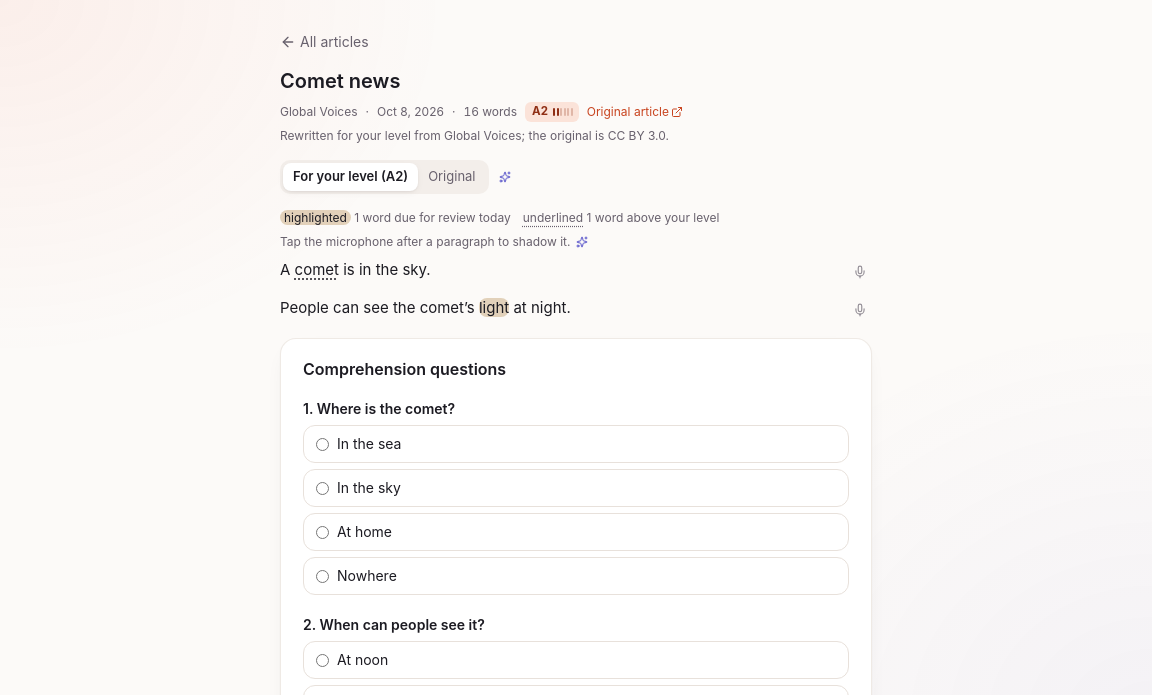
Test: shadowing a paragraph › opens a panel under the paragraph, one at a time (Q57b)
Expected: the element with test id "reading-text" is shown, [280,258,872,322]
Expected: the element with test id "reading-shadowing-hint" is shown, [280,234,590,250]
Click the button named "Shadow this paragraph" in the row of "comet’s".
click(860, 310)  # box [848,298,872,322]
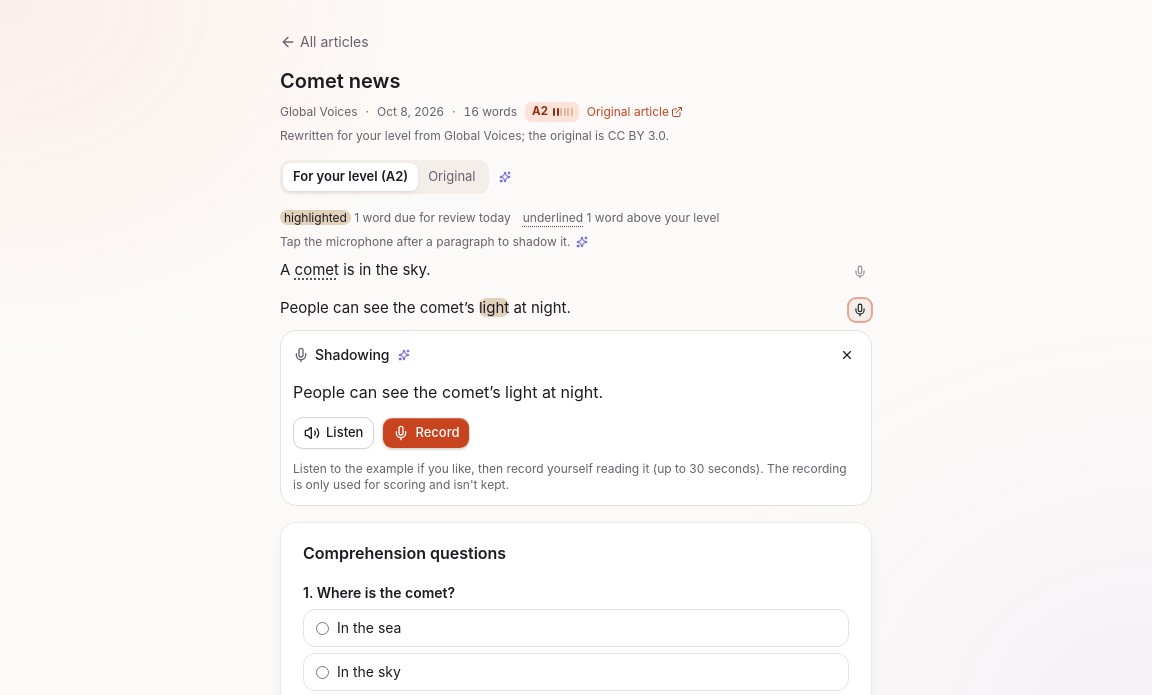
Result: the text with test id "shadowing-sentence" reads "People can see the comet’s light at night." at [293,382,603,402]
Click the 1st button named "Shadow this paragraph".
click(860, 272)  # box [848,260,872,284]
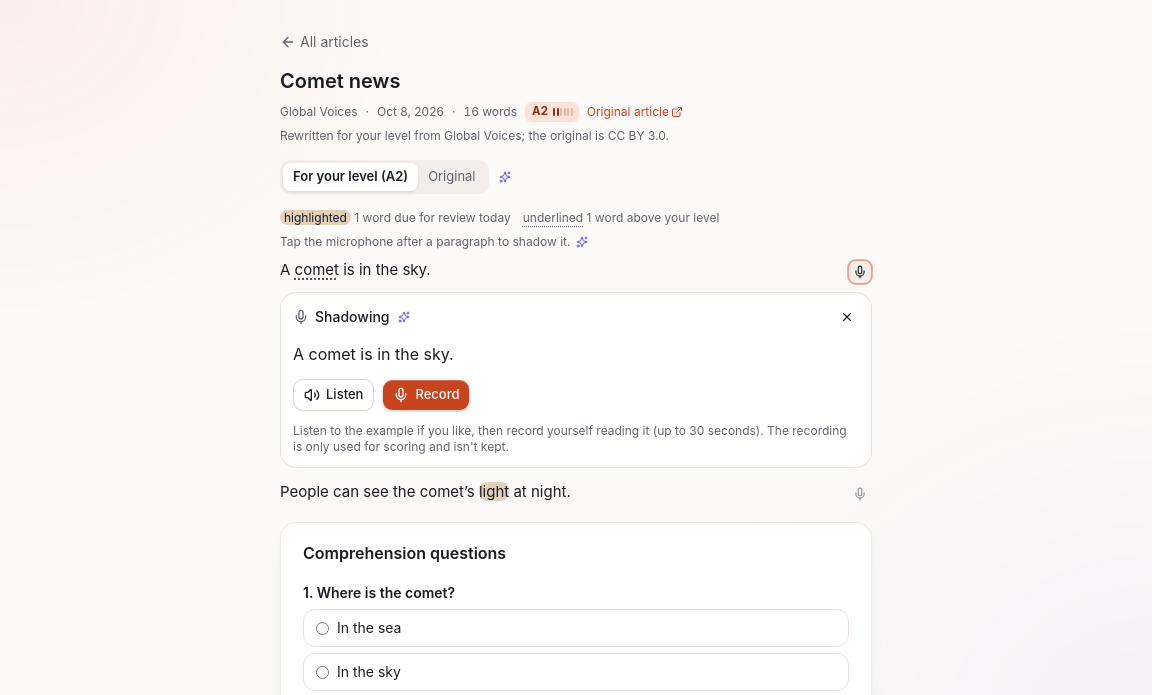
Result: the number of elements with test id "shadowing-panel" is 1 at [280,292,872,468]
Result: the text with test id "shadowing-sentence" reads "A comet is in the sky." at [293,344,454,364]
